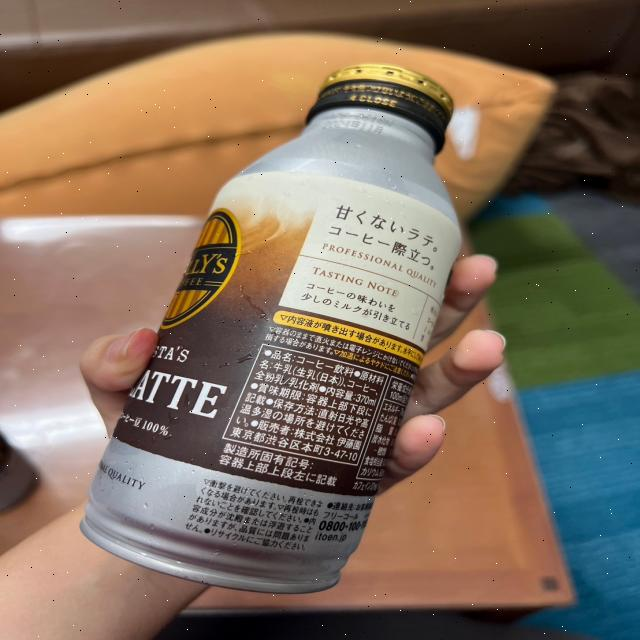coffee-latte: (75, 63, 467, 590)
